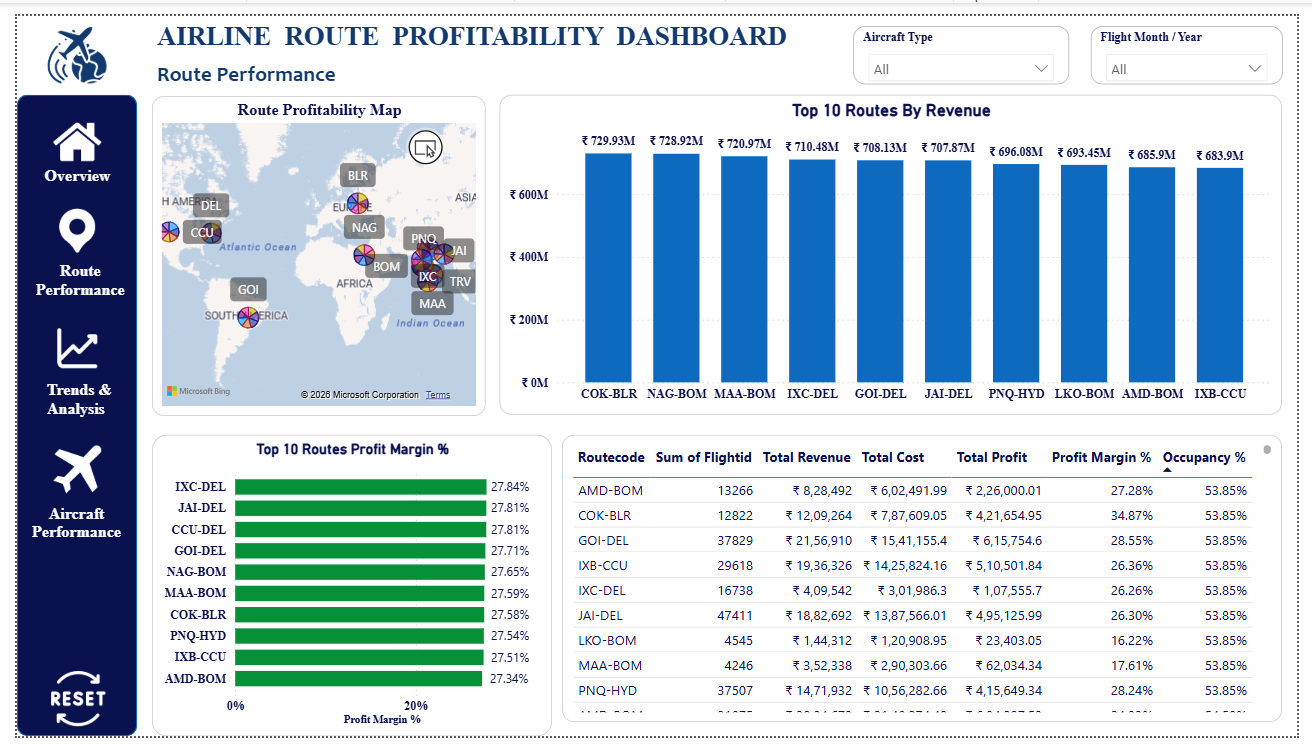

What the dashboard file says about the page in this screenshot:
{"tool":"powerbi","page":{"name":"Route Performance","canvas":[1280,720],"ordinal":1},"visuals":[{"type":"shape","box":[0,78.8,120,641.2],"z":0},{"type":"columnChart","title":"Top 10 Routes By Revenue ","fields":{"Category":["AirlineRoutesData.Routecode"],"Y":["Measure.Total Revenue"]},"box":[482.5,78.8,782.5,320],"z":1000},{"type":"barChart","title":"Top 10 Routes Profit Margin % ","fields":{"Category":["AirlineRoutesData.Routecode"],"Y":["Measure.Profit Margin %"]},"box":[135,418.8,400,301.2],"z":2000},{"type":"tableEx","fields":{"Values":["AirlineRoutesData.Routecode","Sum(AirlineRoutesData.Flightid)","Measure.Total Revenue","Measure.Total Cost","Measure.Total Profit","Measure.Profit Margin %","AirlineRoutesData.Occupancy %"]},"box":[545,418.8,720,287.5],"z":3000},{"type":"map","title":"Route Profitability Map","fields":{"Category":["AirlineRoutesData.Origin"],"Series":["AirlineRoutesData.Aircrafttype"],"Size":["CountNonNull(AirlineRoutesData.Flightid)"],"X":["Min(AirlineRoutesData.Origin)"],"Y":["Min(AirlineRoutesData.Origin)"]},"box":[135,80,333.8,320],"z":4000},{"type":"textbox","box":[135,0,646.2,40],"z":5000},{"type":"image","box":[17.5,10,85,58.8],"z":6000},{"type":"slicer","title":"Aircraft Type","fields":{"Values":["AirlineRoutesData.Aircrafttype"]},"box":[836.6,9.6,215.7,58.7],"z":7000},{"type":"slicer","title":"Flight Month / Year","fields":{"Values":["AirlineRoutesData.Month Year"]},"box":[1073.9,9.6,191.8,58.7],"z":8000},{"type":"textbox","box":[135.4,39.6,193,38.4],"z":9000},{"type":"image","box":[36,98.3,47.9,53.9],"z":9001},{"type":"image","box":[36,187,47.9,53.9],"z":9002},{"type":"image","box":[36,305.6,47.9,53.9],"z":9003},{"type":"image","box":[36,426.7,47.9,53.9],"z":9004},{"type":"textbox","box":[13.2,146.2,93.5,40.7],"z":9005},{"type":"textbox","box":[13.2,240.9,103.1,50.3],"z":9006},{"type":"textbox","box":[25.2,359.6,86.3,57.5],"z":9007},{"type":"textbox","box":[9.6,484.2,103.1,65.9],"z":9008},{"type":"image","box":[32.4,655.6,57.5,55.1],"z":9009}]}

Visuals, with their boxes in screenshot pixels (x1, y1, x2, y2), scaled from the page's 1280x720 canvas onto the 1312x750 screenshot:
shape: bbox(0, 82, 123, 749)
"Top 10 Routes By Revenue " columnChart: bbox(495, 82, 1297, 415)
"Top 10 Routes Profit Margin % " barChart: bbox(138, 436, 548, 749)
tableEx - AirlineRoutesData.Routecode x Sum(AirlineRoutesData.Flightid): bbox(559, 436, 1297, 736)
"Route Profitability Map" map: bbox(138, 83, 481, 417)
textbox: bbox(138, 0, 801, 42)
image: bbox(18, 10, 105, 72)
"Aircraft Type" slicer: bbox(858, 10, 1079, 71)
"Flight Month / Year" slicer: bbox(1101, 10, 1297, 71)
textbox: bbox(139, 41, 337, 81)
image: bbox(37, 102, 86, 159)
image: bbox(37, 195, 86, 251)
image: bbox(37, 318, 86, 374)
image: bbox(37, 444, 86, 501)
textbox: bbox(14, 152, 109, 195)
textbox: bbox(14, 251, 119, 303)
textbox: bbox(26, 375, 114, 434)
textbox: bbox(10, 504, 116, 573)
image: bbox(33, 683, 92, 740)
